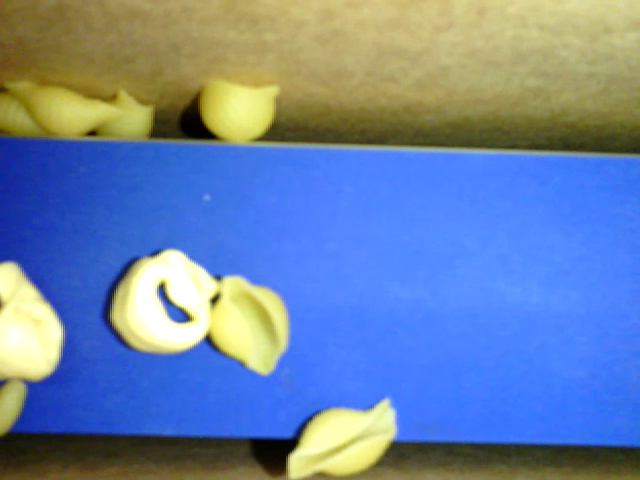elbow: (1, 378, 24, 439)
shell: (284, 394, 398, 477), (209, 273, 288, 377), (1, 76, 126, 140), (201, 78, 280, 143), (89, 89, 156, 142), (1, 89, 58, 135)
tortellini: (105, 247, 220, 355), (1, 261, 68, 382)
